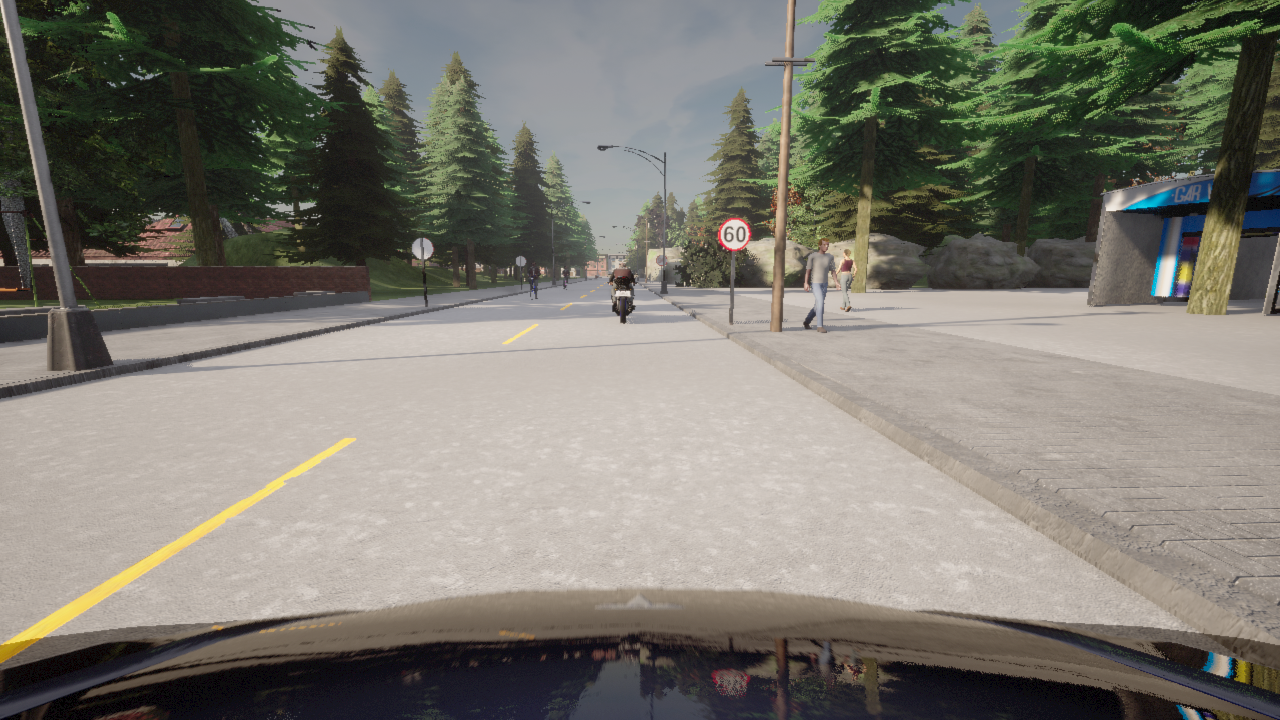cyclist: (0, 588, 1279, 719), (607, 274, 637, 323), (530, 275, 535, 299), (564, 279, 566, 289)
pedestrian: (803, 238, 840, 332), (836, 249, 856, 311)
